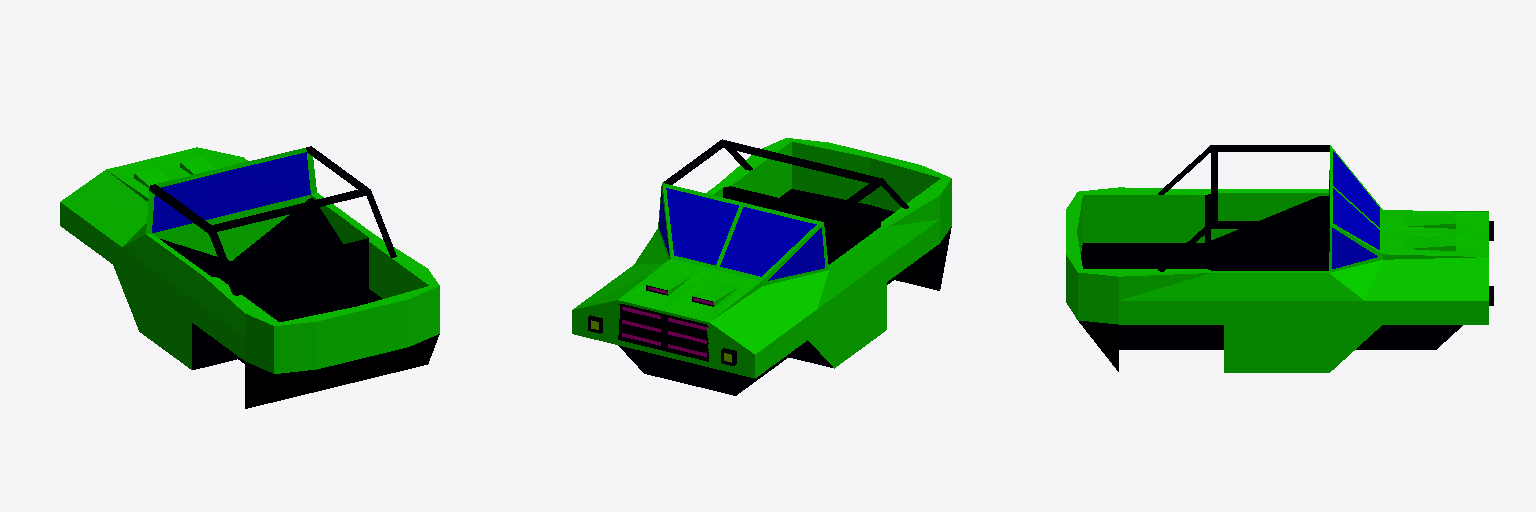
The model's file is wrangbledfjhgnd.obj.
3 renders of one model, left to right at view 1: azimuth 30°, elevation 25°; view 2: azimuth 150°, elevation 25°; view 3: azimuth 270°, elevation 25°, orthographic.
Visible parts, largest first — view 1: Cube_Cube.001; view 2: Cube_Cube.001; view 3: Cube_Cube.001.
Part boxes in pixels (bbox=[...]): Cube_Cube.001: bbox=[60, 146, 439, 408]; Cube_Cube.001: bbox=[572, 138, 951, 395]; Cube_Cube.001: bbox=[1066, 145, 1493, 372].
Size of the model in its own units: 4 by 3 by 8.1.